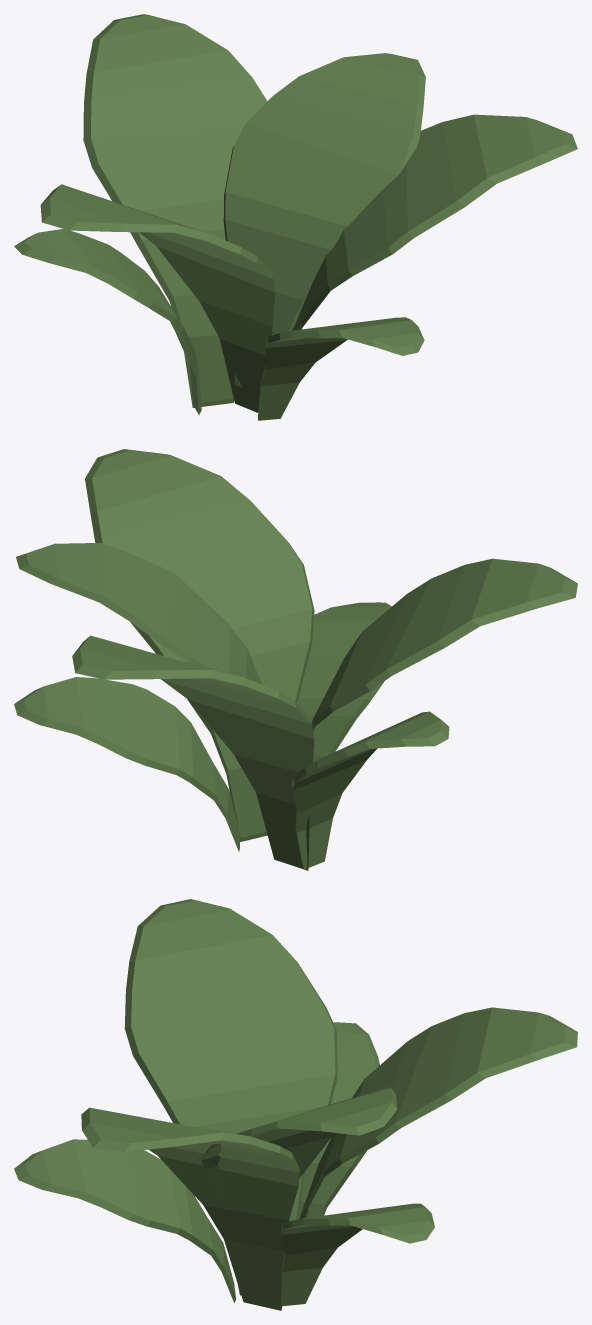
The model's file is H_Bush.fbx.
The picture shows the model from 3 angles, top to bottom: view 1: azimuth 30°, elevation 25°; view 2: azimuth 150°, elevation 25°; view 3: azimuth 270°, elevation 25°; orthographic projection. The views are drawn at different scales.
Parts seen in each view (by area): view 1: H_Bush; view 2: H_Bush; view 3: H_Bush.
Part boxes in pixels (left/top/right/bottom): H_Bush: left=14, top=14, right=577, bottom=420; H_Bush: left=14, top=449, right=577, bottom=870; H_Bush: left=14, top=899, right=577, bottom=1310.
Bounding box in the file's own units: 108 × 58.41 × 106.
